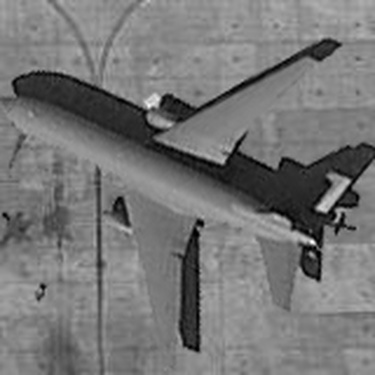airplane: (1, 30, 359, 365)
